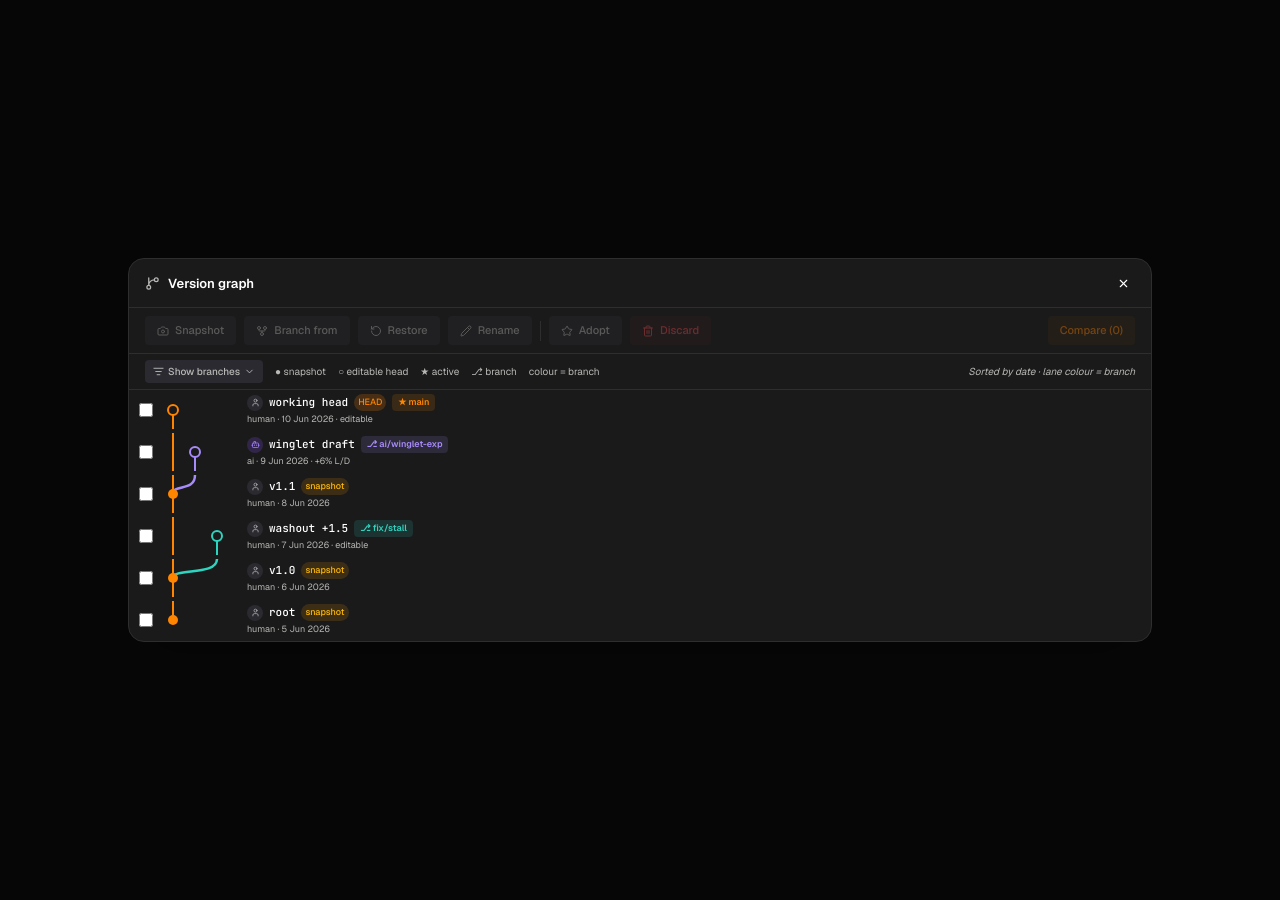
VersionGraphOverlay (gh-961) › toolbar enable/disable › selecting node on non-main branch: Adopt and Discard enabled
The width and height of the screenshot is (1280, 900).
Note: winglet draft is on ai/winglet-exp (non-main)
Click the row with test id "graph-row-30" at (294, 452), box [139, 433, 448, 471]
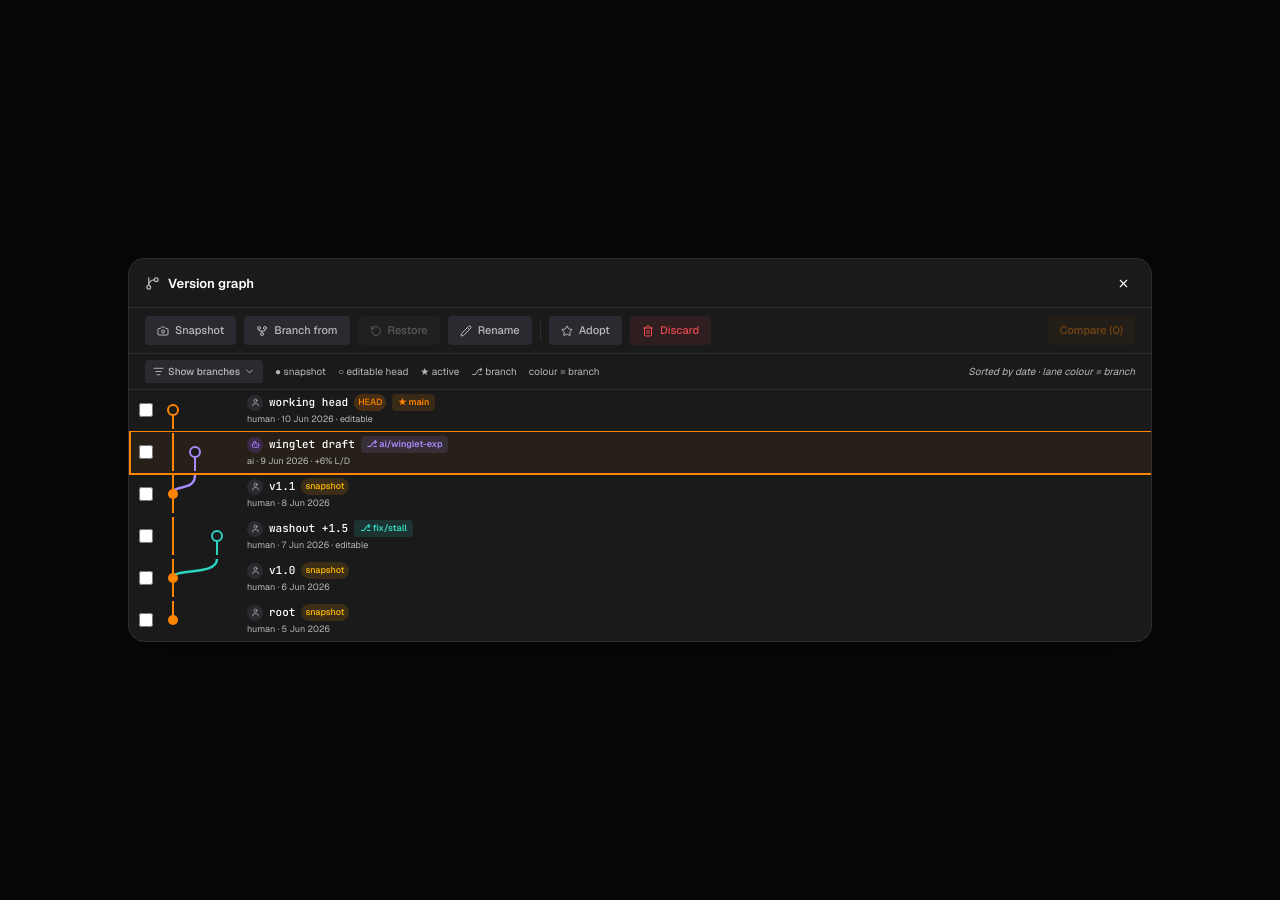
Now the button "Adopt" is enabled, box [549, 316, 622, 345]
Now the button "Discard" is enabled, box [630, 316, 711, 345]
